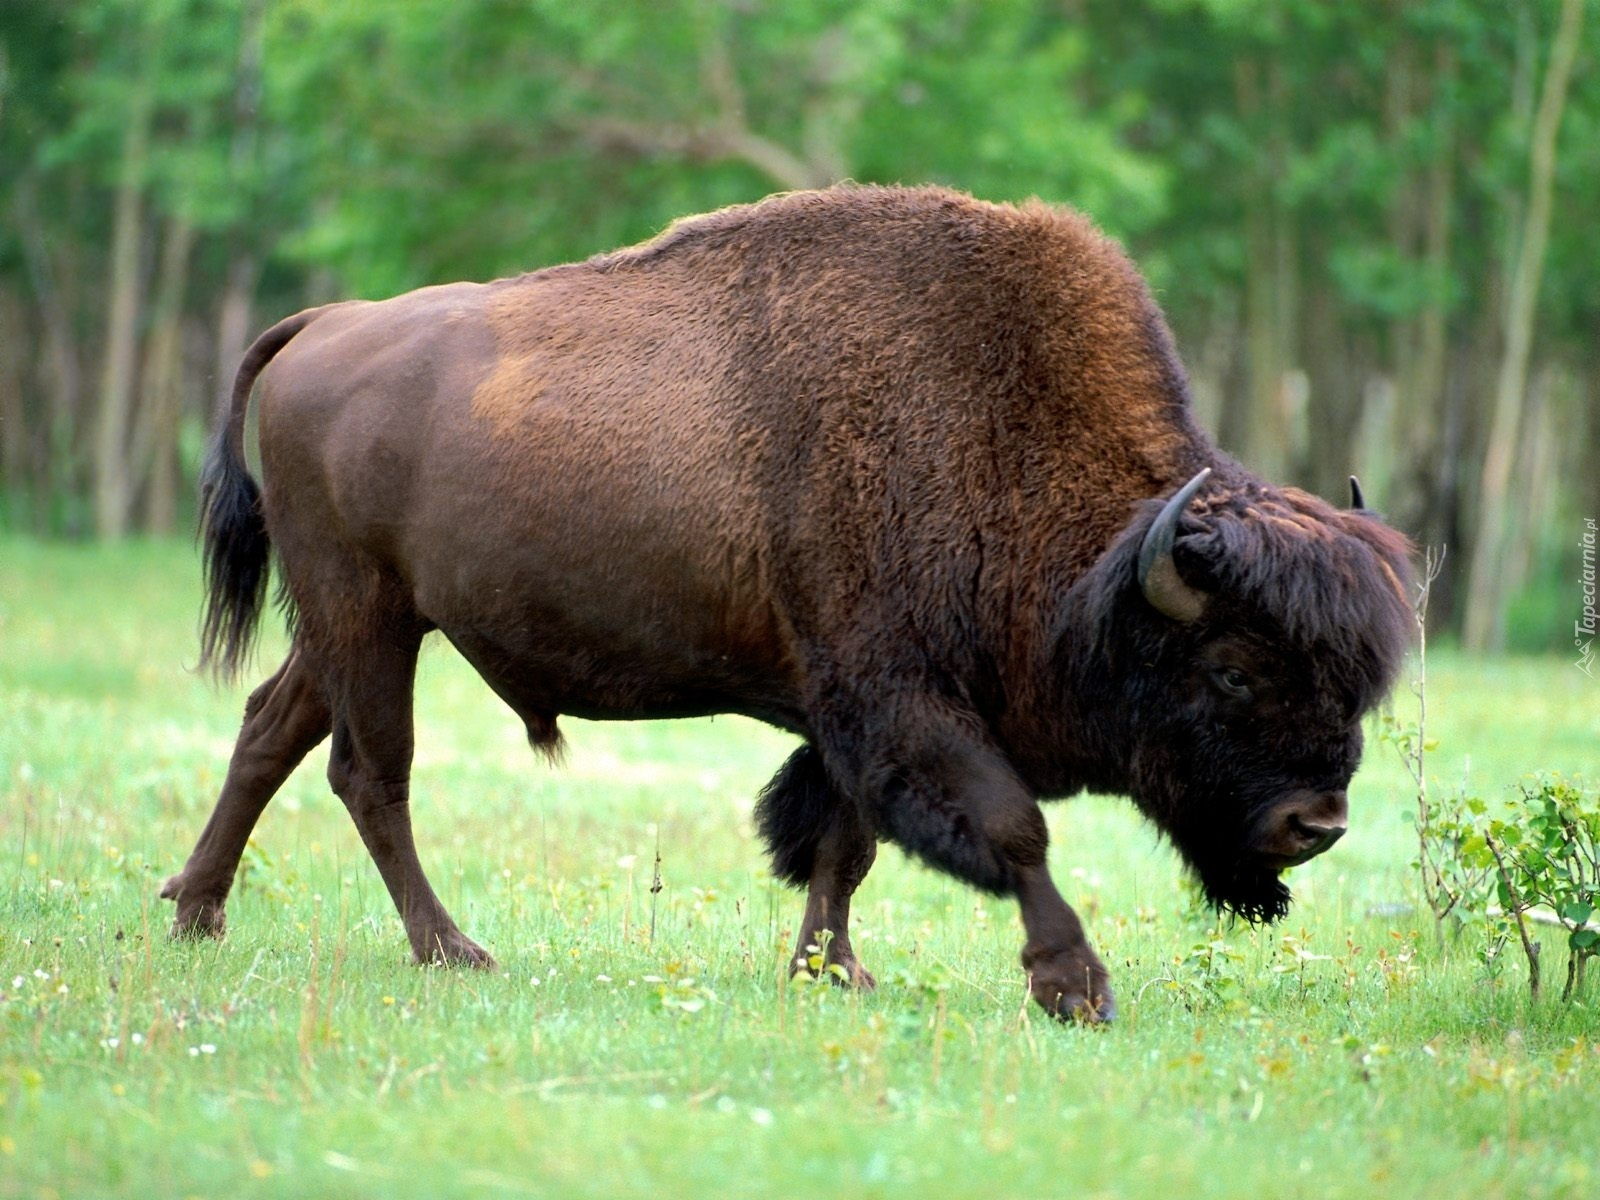zubr: (152, 146, 1435, 1089)
